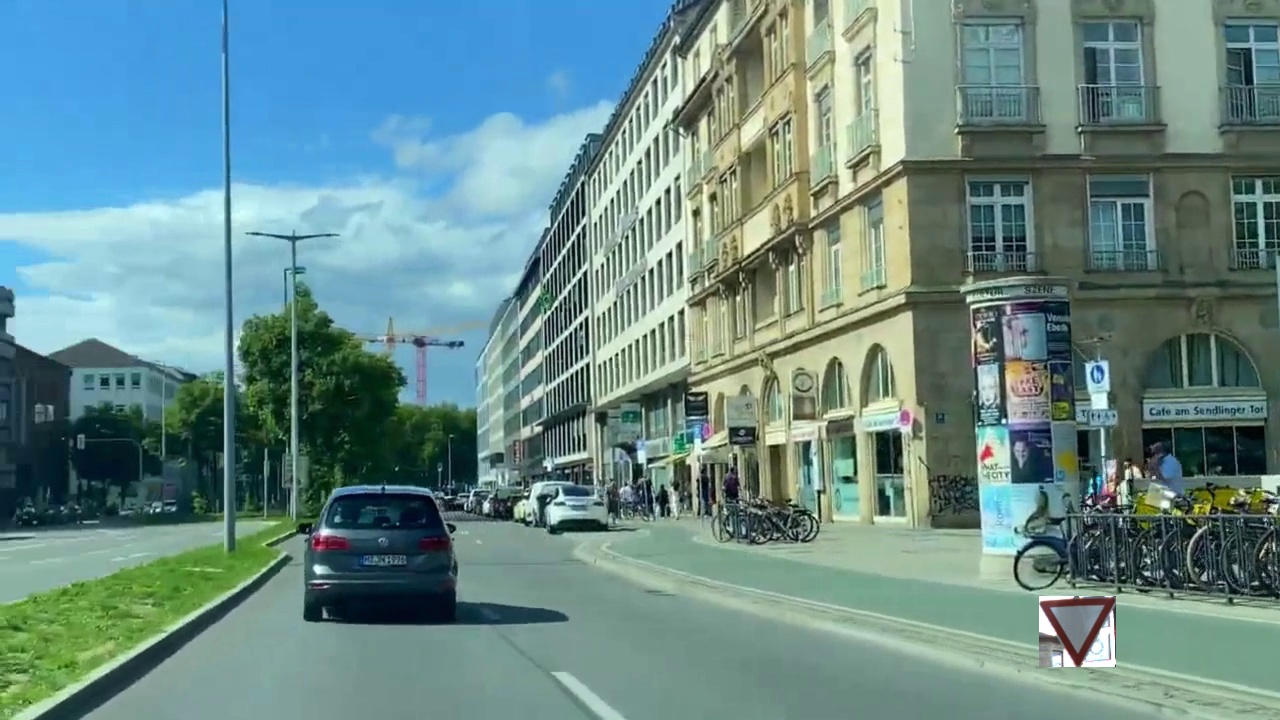Yield: (1039, 596, 1116, 667)
